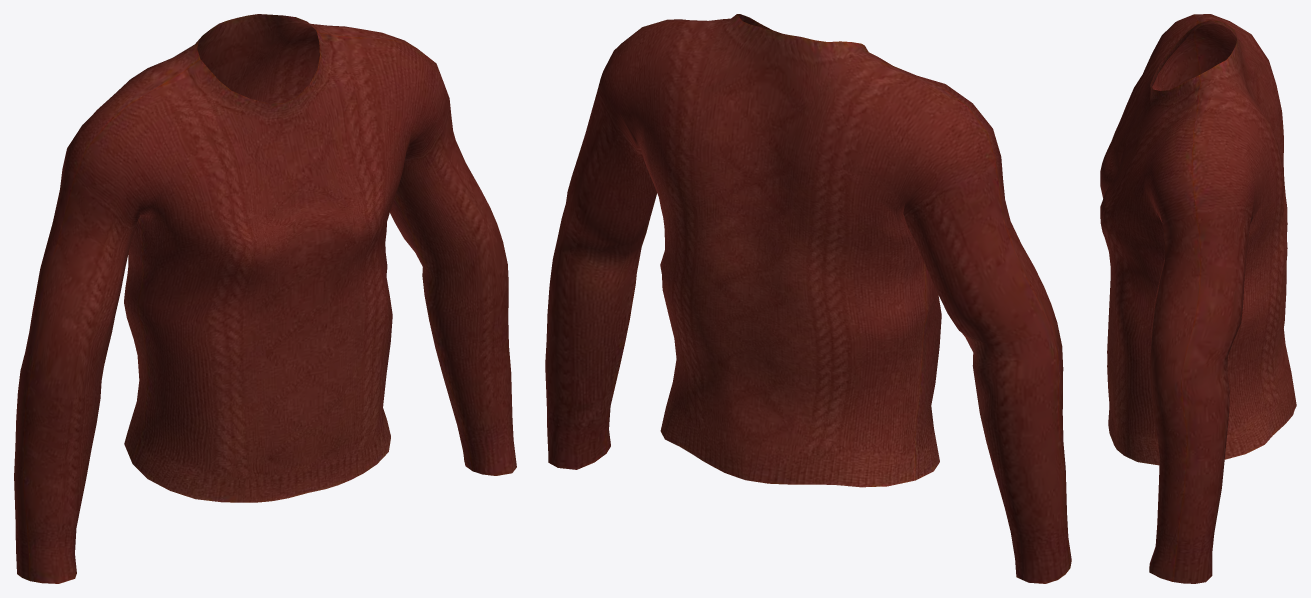
File: mindfront-knitted-sweater-02.glb
3 views of the same model, side by side, from view 1: azimuth 30°, elevation 25°; view 2: azimuth 150°, elevation 25°; view 3: azimuth 270°, elevation 25° (orthographic). The views are drawn at different scales.
Visible parts, largest first — view 1: Human.mindfront_knitted_sweater_02; view 2: Human.mindfront_knitted_sweater_02; view 3: Human.mindfront_knitted_sweater_02.
Boxes of the visible parts, box(x1,y1,x2,y2) form: Human.mindfront_knitted_sweater_02: box(14, 14, 516, 583); Human.mindfront_knitted_sweater_02: box(545, 14, 1071, 583); Human.mindfront_knitted_sweater_02: box(1100, 14, 1296, 583).
Size of the model in its own units: 0.7339 by 0.6902 by 0.2809.
1 material, 1 textured.
